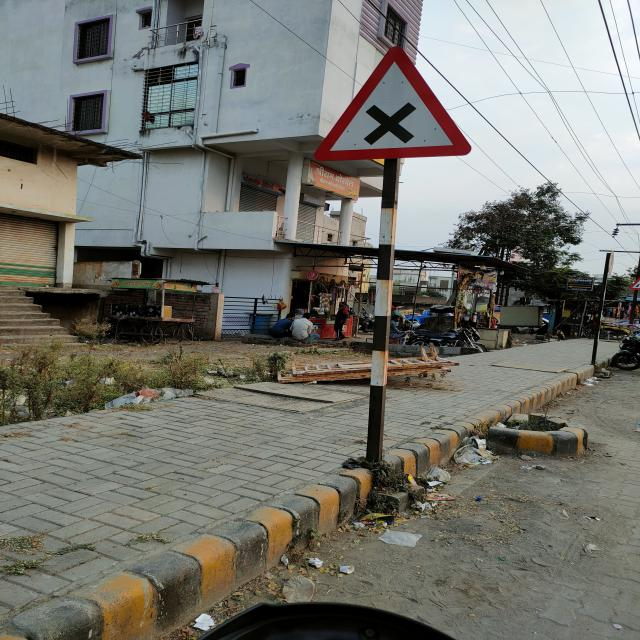CROSS_ROAD: (312, 46, 471, 162)
